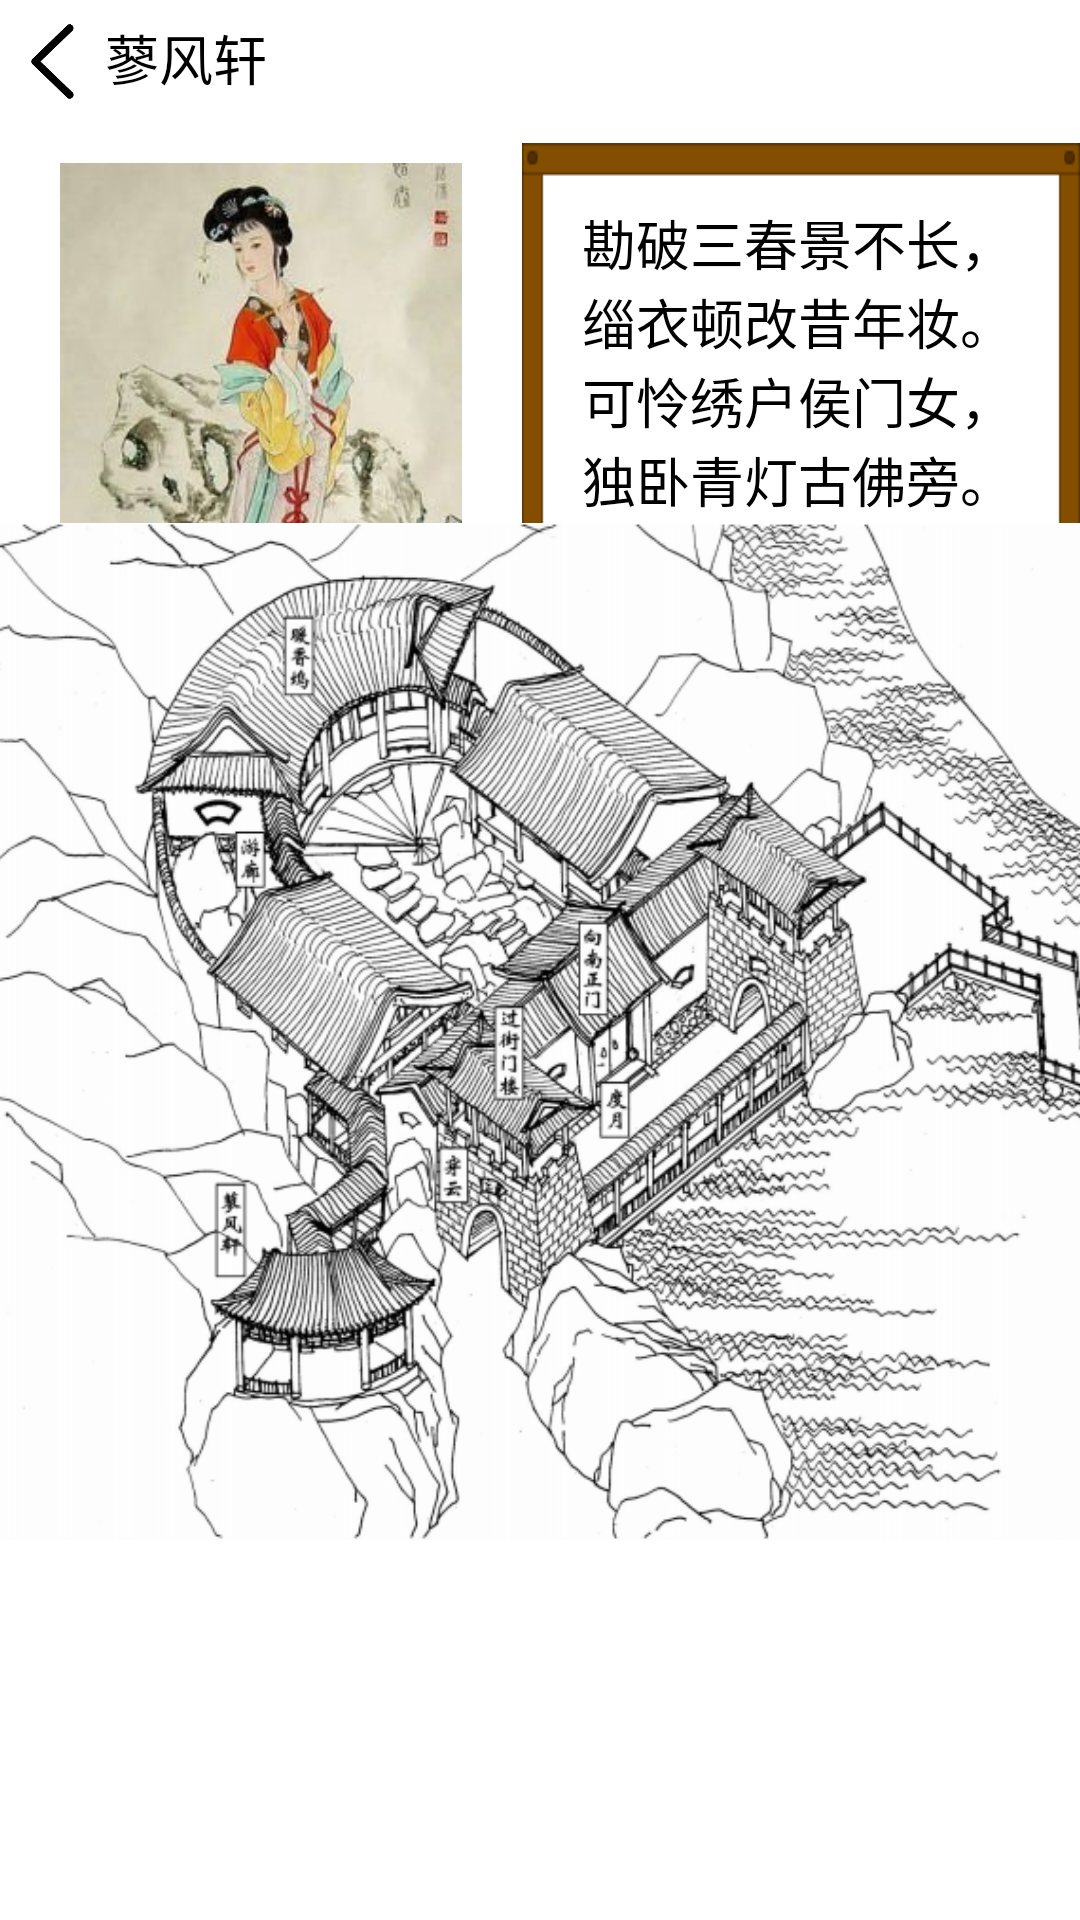

Named icons in this screenshot (1080 x 1920) and their bounding boxes, (x1, y1, x2, y2):
returnbutton: (31, 24, 74, 99)
